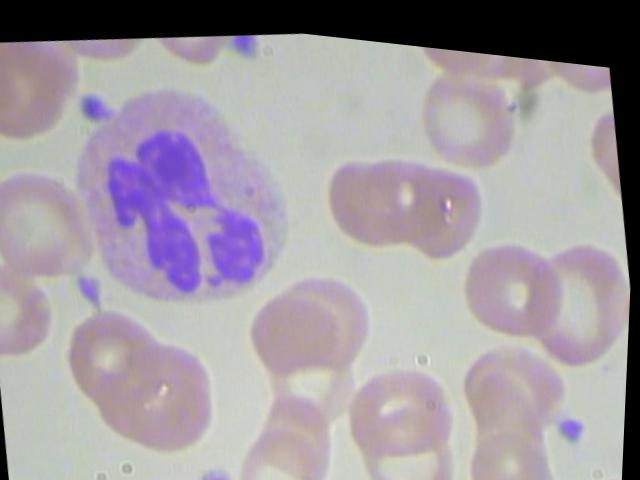Platelets: (69, 82, 121, 128), (67, 265, 113, 312), (552, 397, 592, 437), (225, 26, 267, 60), (197, 455, 250, 479)
Red Blood Cells: (509, 213, 633, 367), (337, 335, 468, 460), (412, 48, 529, 168), (455, 216, 572, 336), (55, 295, 172, 414), (312, 140, 429, 253), (247, 274, 365, 382), (0, 161, 98, 281), (0, 34, 82, 151), (356, 401, 475, 479)
White Blood Cells: (57, 51, 331, 327)
